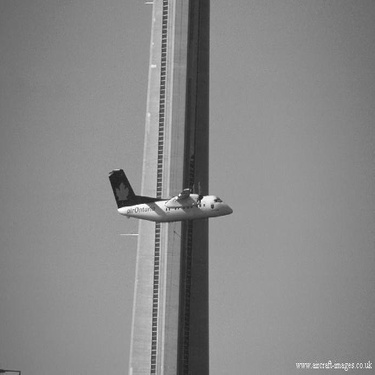airplane: (74, 159, 238, 233)
